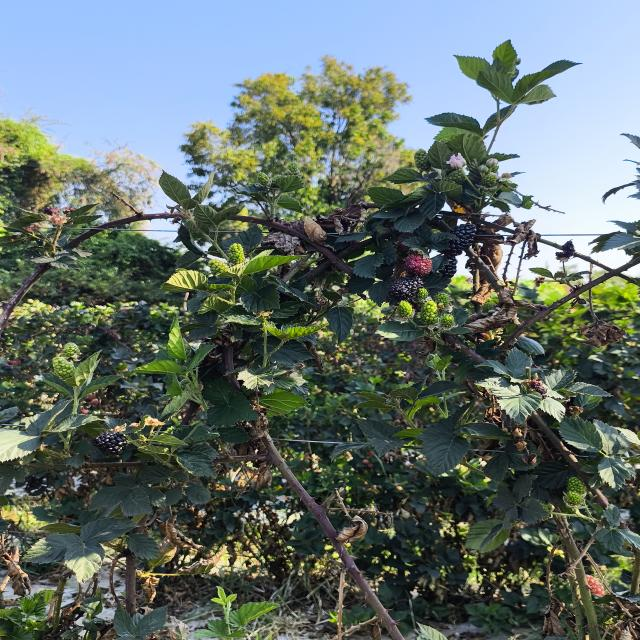maduro: (388, 275, 423, 300), (449, 223, 476, 254), (92, 432, 126, 454), (438, 259, 457, 278)
marron: (404, 254, 432, 275)
